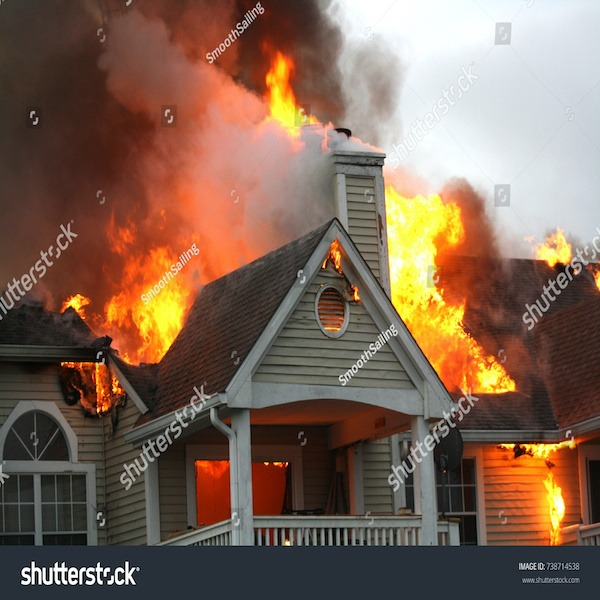fire: (388, 169, 470, 323), (257, 38, 330, 187), (97, 238, 186, 357), (184, 153, 257, 267), (436, 313, 512, 392), (531, 448, 575, 540)
